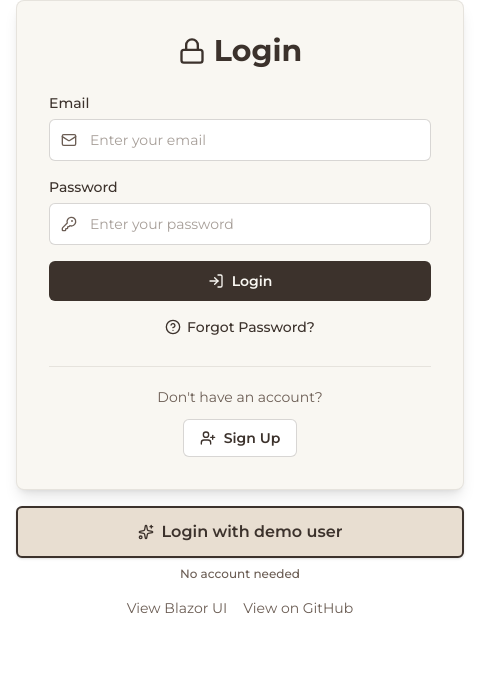
Test: Login › shows the API message when credentials are rejected
Type "user@example.com" into the field labelled "Email". click: (240,140)
box: [49,119,431,161]
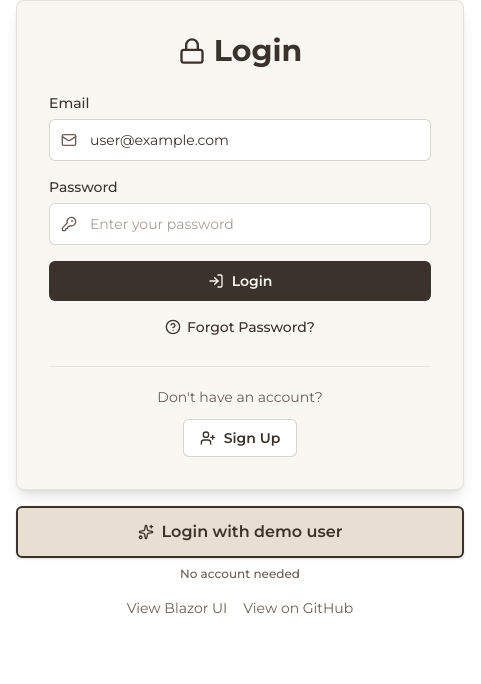
Type "secret1" into the password field labelled "Password". click: (240,224)
box: [49,203,431,245]
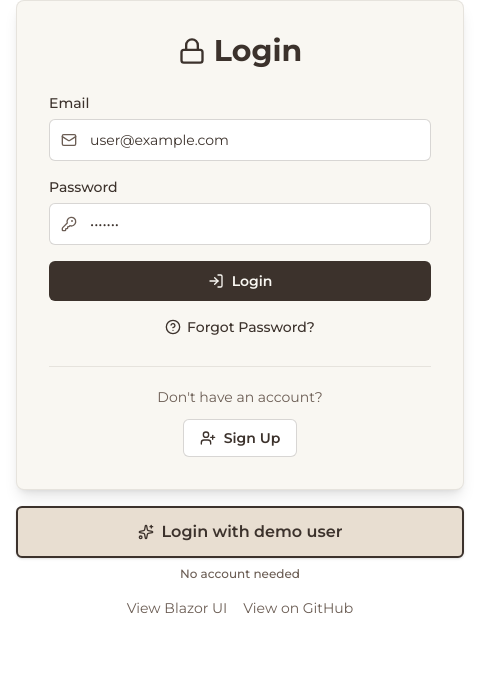
Click the button "Login". click: (240,281)
box: [49,261,431,301]
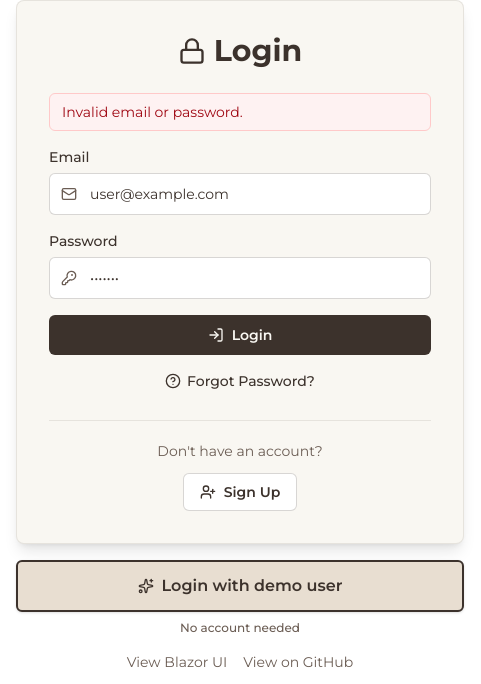
Expected: the heading "Login" is shown, [214,33,302,69]
Expected: the text with test id "login-form-error" reads "Invalid email or password.", [62,103,243,121]
